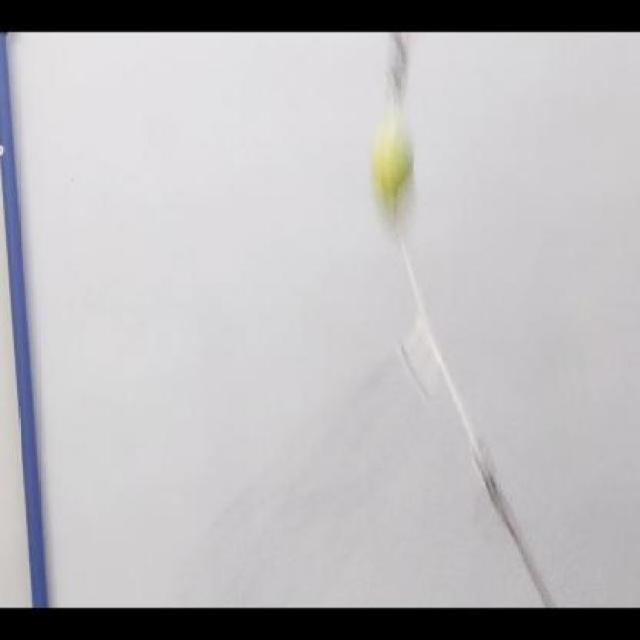baseball: (361, 112, 408, 240)
